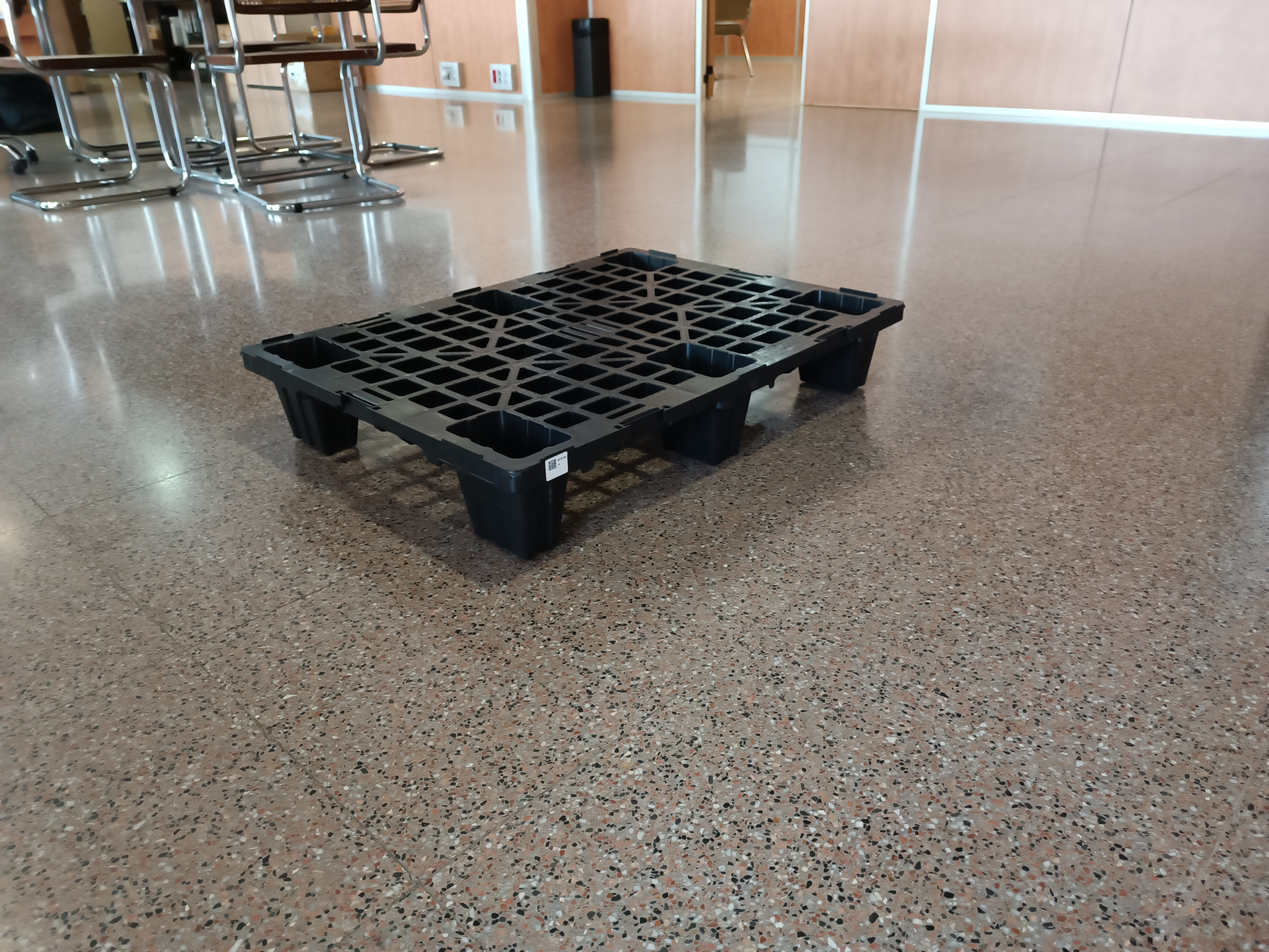block: (458, 448, 567, 560), (268, 384, 353, 456), (793, 326, 883, 393), (704, 378, 749, 473)
front: (508, 302, 907, 556)
hole pallet: (563, 407, 713, 537), (742, 345, 849, 441)
